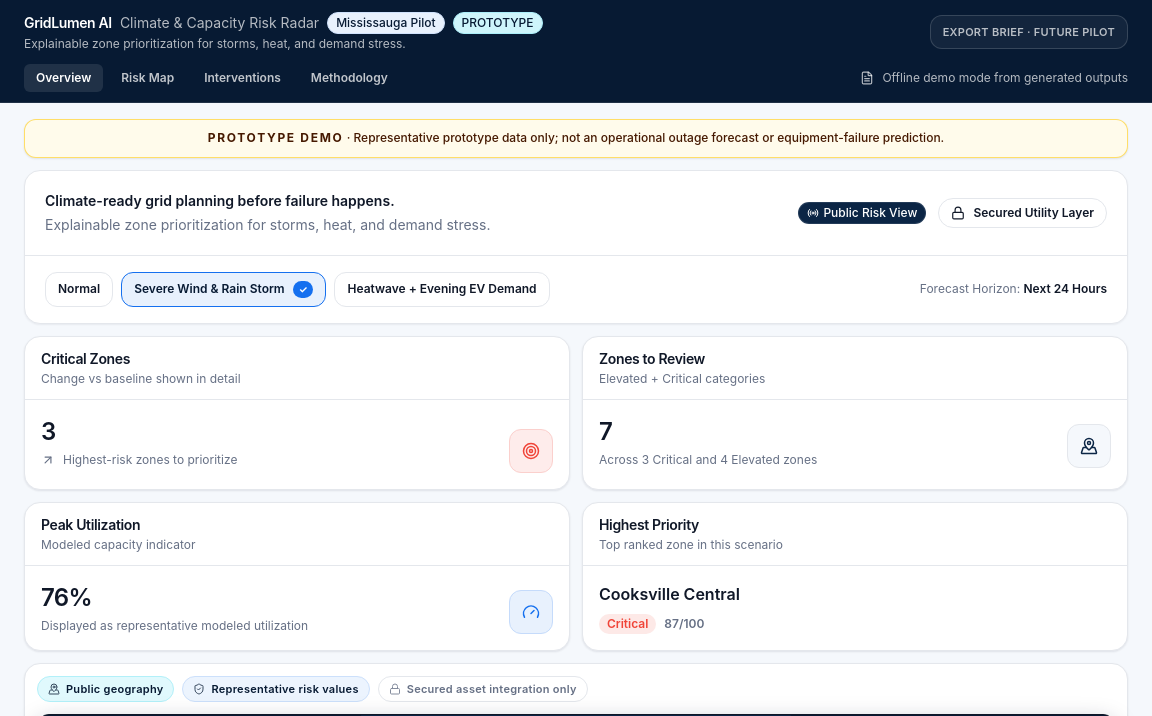
App integration (recording layout) › opens secured utility layer modal from HeroControls
Click the button "Secured Utility Layer": (1023, 212) [938,198,1107,228]
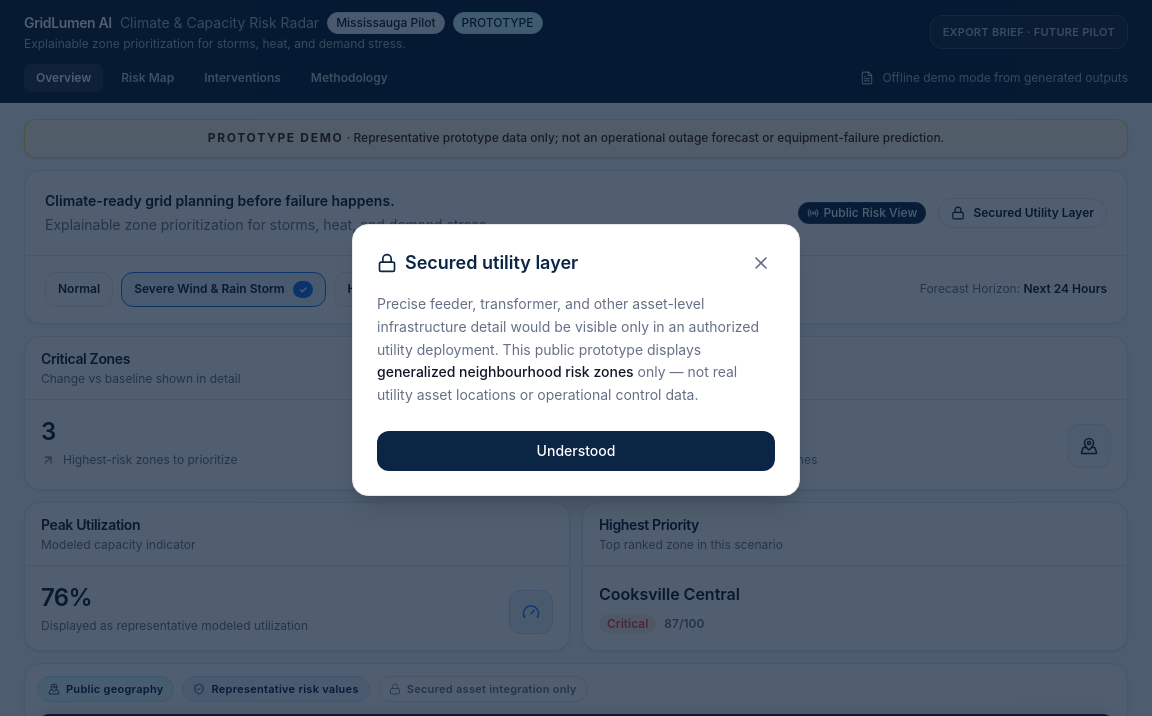
Expected: the dialog shows "generalized neighbourhood risk zones", [377,363,634,380]
